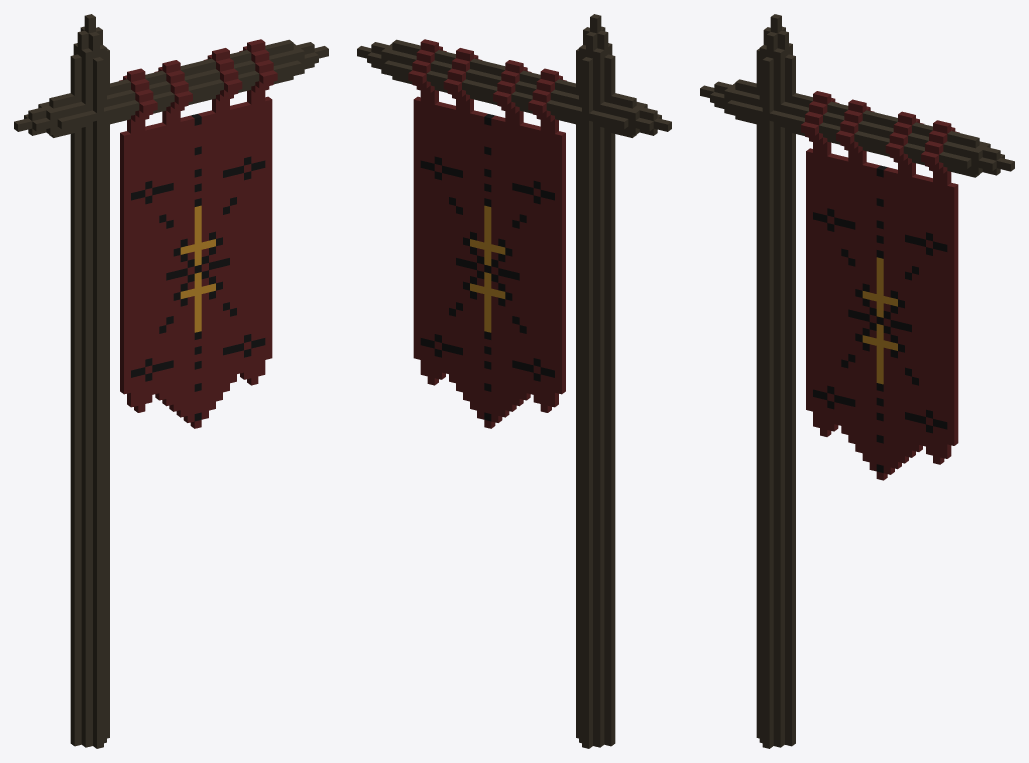
File: Drapeaux2.fbx
The picture shows the model from 3 angles, left to right: view 1: azimuth 30°, elevation 25°; view 2: azimuth 150°, elevation 25°; view 3: azimuth 330°, elevation 25°; orthographic projection.
Parts seen in each view (by area): view 1: Drapeaux_02:Mesh; view 2: Drapeaux_02:Mesh; view 3: Drapeaux_02:Mesh.
Part boxes in pixels (x1,y1,x2,y2): Drapeaux_02:Mesh: (14, 14, 328, 748); Drapeaux_02:Mesh: (357, 14, 671, 748); Drapeaux_02:Mesh: (700, 14, 1014, 748).
Bounding box in the file's own units: 44 × 98 × 7.
